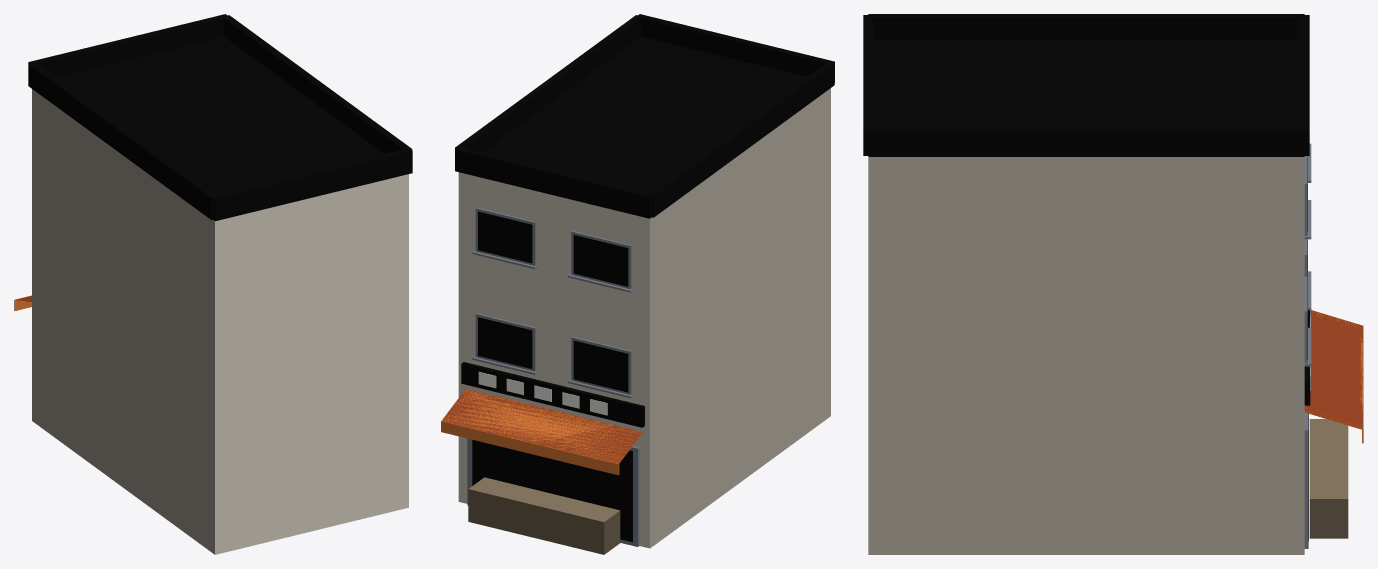
File: Shop_D.fbx
3 views of the same model, side by side, from view 1: azimuth 30°, elevation 25°; view 2: azimuth 150°, elevation 25°; view 3: azimuth 270°, elevation 25° (orthographic). The views are drawn at different scales.
Parts seen in each view (by area): view 1: Body.007, RoofTop.004; view 2: Body.007, RoofTop.004, Awning.003, WinGlass.004, ShopStall.002, ShopGlass.001, WinFrame.004, SignBand.003, SignText.003, ShopFrame.001; view 3: Body.007, RoofTop.004, Awning.003, ShopStall.002, WinFrame.004, ShopFrame.001.
Boxes of the visible parts, x1,y1,x2,y2 form: Body.007: [32, 89, 408, 554]; RoofTop.004: [28, 14, 412, 221]; Body.007: [458, 88, 830, 548]; RoofTop.004: [455, 14, 834, 218]; Awning.003: [441, 389, 642, 475]; WinGlass.004: [478, 211, 628, 392]; ShopStall.002: [468, 477, 620, 554]; ShopGlass.001: [472, 440, 632, 542]; WinFrame.004: [472, 207, 633, 398]; SignBand.003: [461, 362, 644, 427]; SignText.003: [478, 372, 607, 415]; ShopFrame.001: [467, 438, 639, 546]; Body.007: [868, 157, 1304, 554]; RoofTop.004: [863, 14, 1309, 156]; Awning.003: [1304, 310, 1363, 443]; ShopStall.002: [1309, 419, 1348, 538]; WinFrame.004: [1304, 143, 1311, 366]; ShopFrame.001: [1304, 412, 1308, 548].
Bounding box in the file's own units: 5.7 × 9.7 × 10.32.
